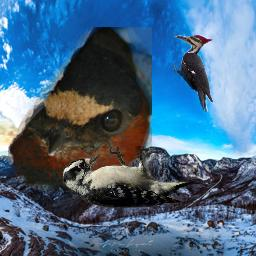Swallow: (8, 27, 152, 192)
Woodpecker: (63, 146, 203, 208), (173, 35, 214, 113)
